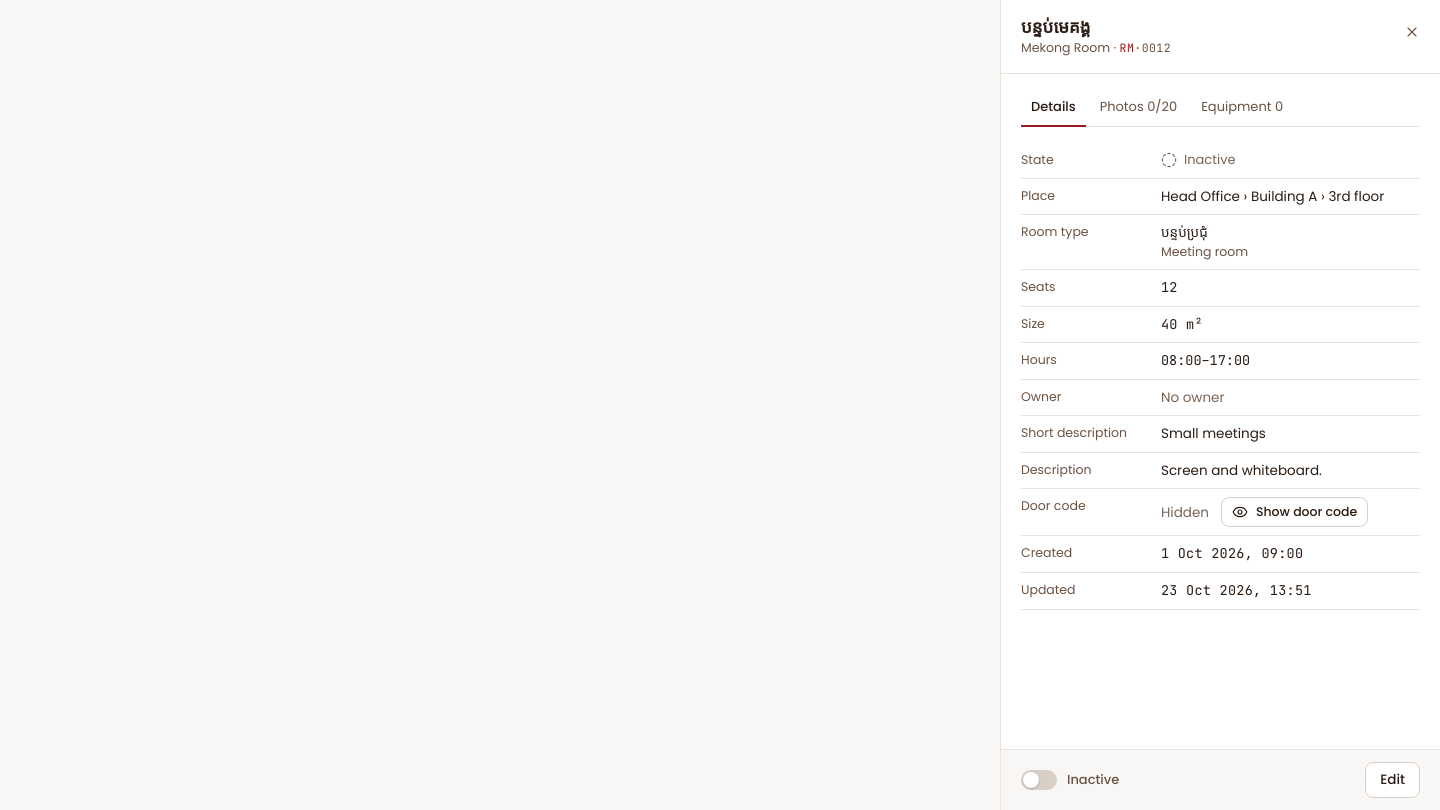
Scenario: RoomDetailPanel › makes a room active, and shows the reason when the API refuses
What coordinates should you click on to do the following:
click the switch named "Active"
I would click on:
 (1039, 780)
Its box is [1021,770,1057,790].
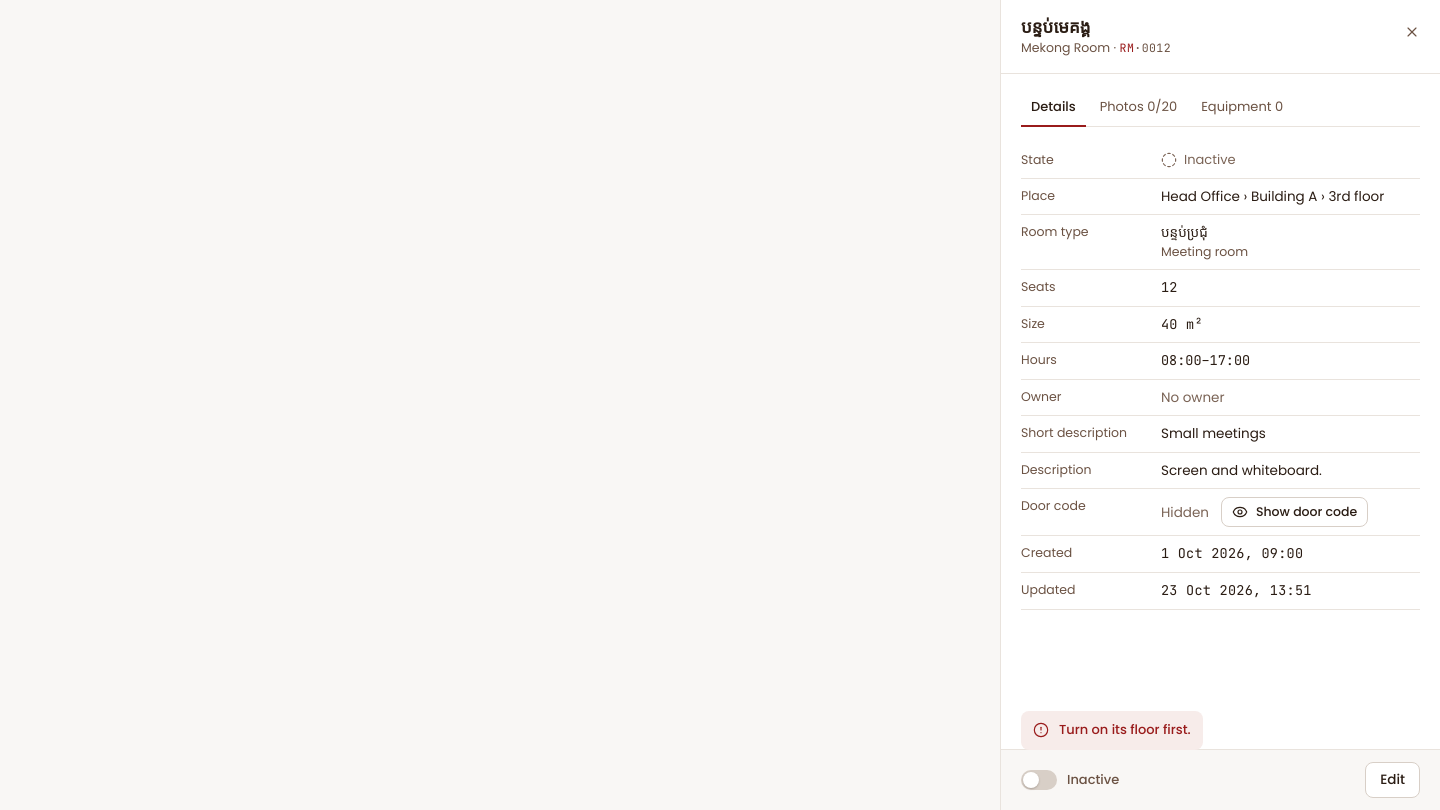
Expected: the text "Inactive" is shown, [1161,150,1236,169]
Now the message "Turn on its floor first." is shown, box [1021,711,1203,750]
